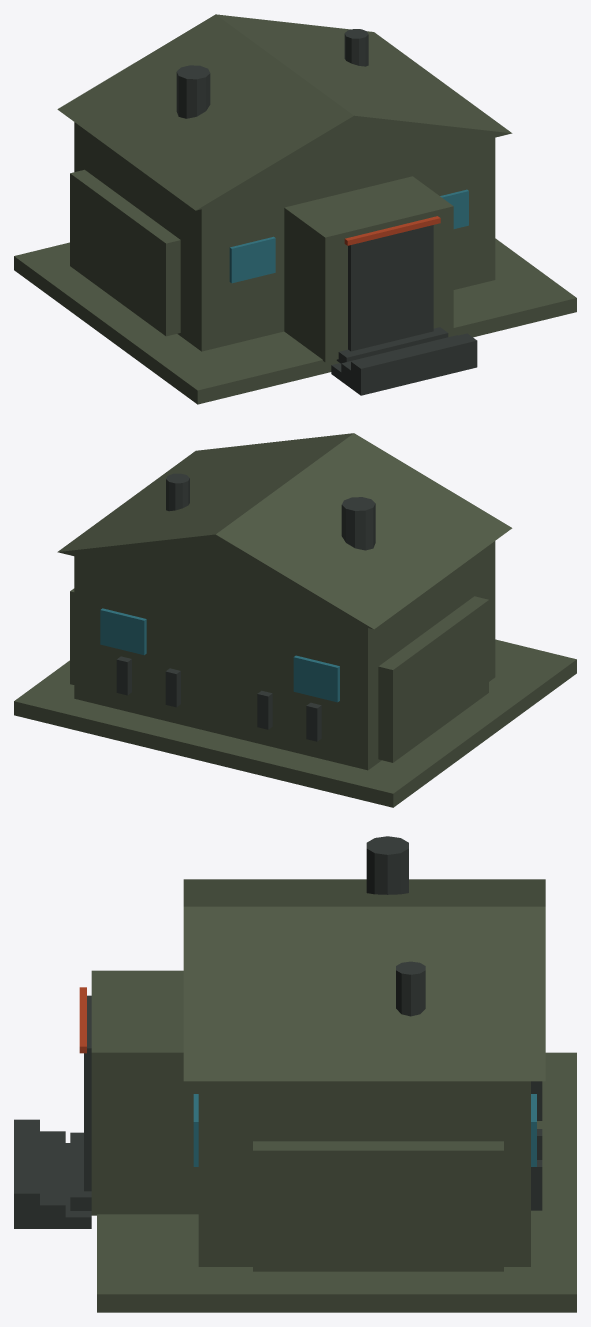
Rendered from Bastion_Barracks_Static.obj.
The picture shows the model from 3 angles, top to bottom: view 1: azimuth 30°, elevation 25°; view 2: azimuth 150°, elevation 25°; view 3: azimuth 270°, elevation 25°; orthographic projection. The views are drawn at different scales.
Parts seen in each view (by area): view 1: Bastion_Barracks_Static; view 2: Bastion_Barracks_Static; view 3: Bastion_Barracks_Static.
Boxes of the visible parts, x1=… form: Bastion_Barracks_Static: x1=14, y1=14, x2=576, y2=404; Bastion_Barracks_Static: x1=14, y1=433, x2=576, y2=807; Bastion_Barracks_Static: x1=14, y1=836, x2=576, y2=1312.
Bounding box in the file's own units: 6.2 × 3.51 × 6.1.
1 material, 1 textured.
